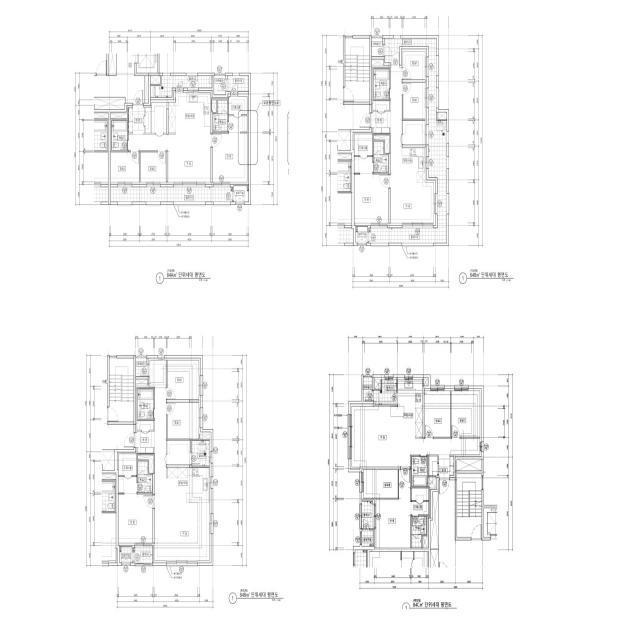space_balconi: (369, 38, 447, 243), (111, 187, 233, 202), (151, 76, 212, 97), (374, 380, 397, 405), (192, 441, 209, 466), (362, 501, 374, 529), (227, 76, 249, 91), (133, 546, 152, 563)
space_bedroom: (376, 470, 410, 548), (118, 494, 153, 543), (354, 174, 388, 223), (213, 133, 247, 182), (451, 391, 480, 437), (167, 360, 199, 400), (167, 403, 199, 439), (425, 391, 450, 437), (111, 152, 139, 182), (403, 83, 425, 119), (140, 152, 166, 182), (403, 51, 425, 80)
space_dressroom: (118, 454, 137, 493), (354, 134, 373, 173), (229, 96, 247, 132), (411, 488, 429, 515)
space_front: (128, 105, 144, 134), (135, 432, 155, 454), (371, 112, 390, 134), (439, 455, 454, 478)
space_kitchen: (168, 93, 211, 133), (166, 468, 209, 503), (398, 380, 423, 437), (402, 148, 425, 183)
space_living_room: (150, 360, 209, 561), (352, 406, 480, 467), (390, 67, 434, 223), (128, 134, 211, 182)
space_multipurpose_space: (364, 470, 398, 498)
space_other: (167, 441, 190, 465), (403, 121, 425, 145), (430, 492, 439, 549), (152, 102, 166, 133), (457, 459, 482, 471), (138, 455, 153, 473), (374, 135, 389, 153), (214, 76, 226, 95), (136, 358, 148, 376), (372, 38, 383, 57), (363, 378, 372, 401), (137, 420, 154, 430), (429, 456, 437, 476), (145, 108, 151, 133), (373, 101, 389, 110), (145, 76, 149, 103), (428, 477, 436, 488), (111, 114, 127, 119), (372, 59, 384, 65), (151, 76, 160, 84), (136, 379, 148, 385), (437, 112, 447, 119), (212, 100, 217, 112), (375, 380, 381, 389), (200, 434, 210, 439), (423, 536, 427, 548), (424, 379, 427, 386)
space_outdoor_room: (234, 186, 249, 202), (356, 227, 368, 243), (120, 547, 132, 563), (362, 530, 373, 546)
space_staircase: (345, 38, 370, 102), (109, 358, 134, 422), (457, 474, 482, 537)
space_toilet: (213, 100, 228, 132), (138, 461, 153, 493), (411, 516, 426, 548), (112, 120, 127, 151), (412, 456, 427, 487), (374, 69, 389, 99), (138, 389, 153, 419), (374, 141, 388, 173)
